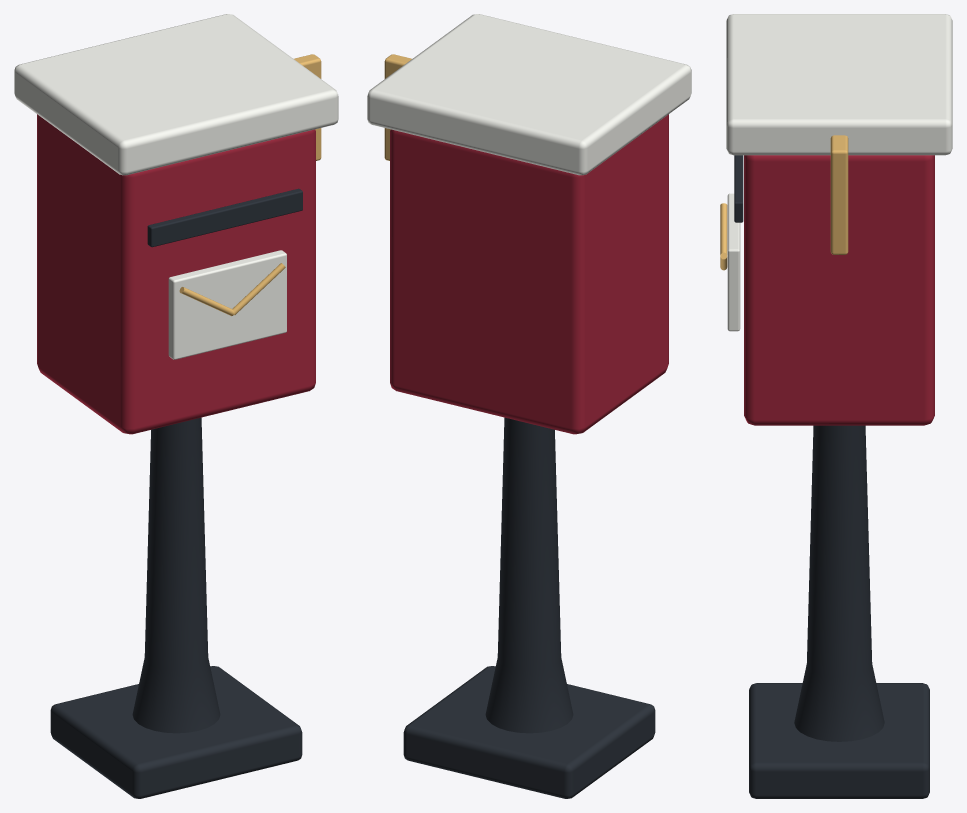
File: letterbox.glb
3 views of the same model, side by side, from view 1: azimuth 30°, elevation 25°; view 2: azimuth 150°, elevation 25°; view 3: azimuth 270°, elevation 25° (orthographic). The views are drawn at different scales.
Parts seen in each view (by area): view 1: berry, cream, ink, brass; view 2: berry, ink, cream, brass; view 3: berry, ink, cream, brass.
Part boxes in pixels (<box>): berry: <box>37,114,315,434</box>; cream: <box>14,14,338,359</box>; ink: <box>50,188,302,798</box>; brass: <box>179,54,321,316</box>; berry: <box>390,114,668,434</box>; ink: <box>403,417,655,798</box>; cream: <box>367,14,691,175</box>; brass: <box>384,54,411,160</box>; berry: <box>744,155,934,425</box>; ink: <box>734,155,929,798</box>; cream: <box>726,14,952,331</box>; brass: <box>720,135,848,270</box>.
Size of the model in its own units: 0.595 by 1.52 by 0.462.
